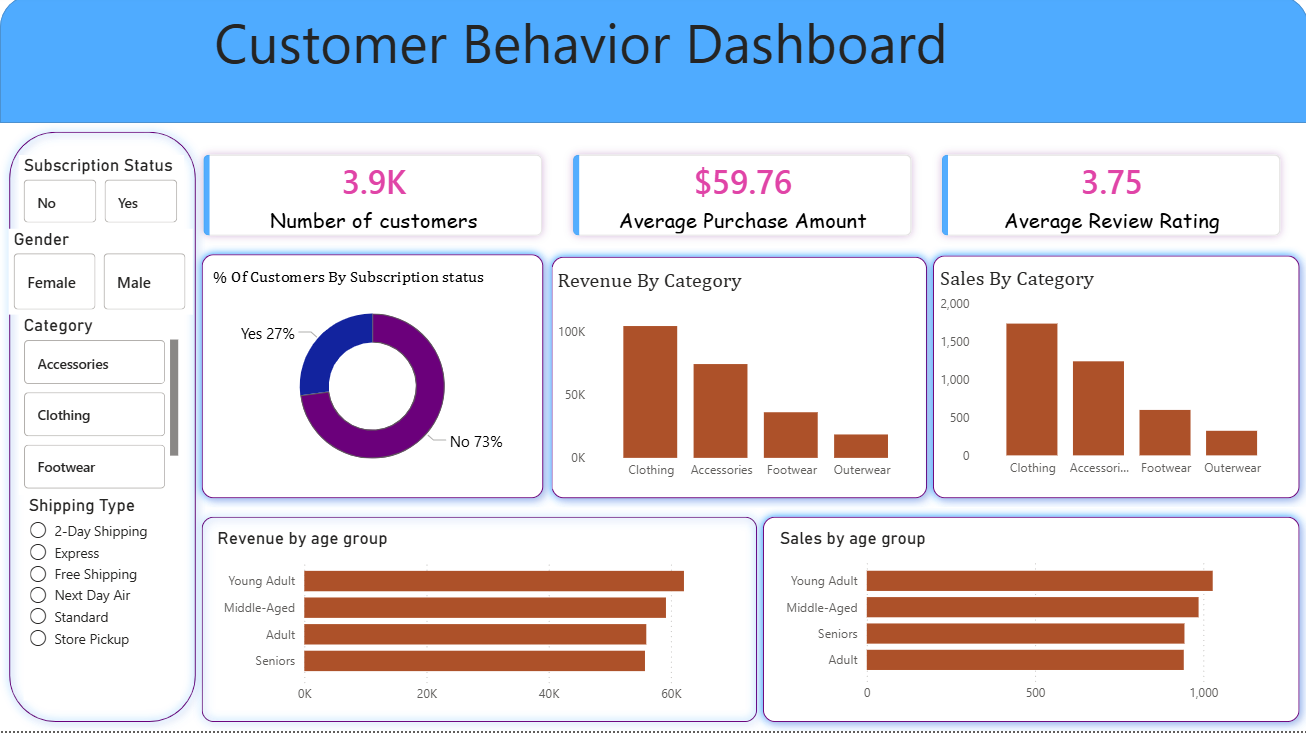

What the dashboard file says about the page in this screenshot:
{"tool":"powerbi","page":{"name":"Page 1","canvas":[1280,720],"ordinal":0},"visuals":[{"type":"cardVisual","fields":{"Data":["public customer.Number of customers","public customer.Average Purchase Amount","public customer.Average Review Rating"]},"box":[171.2,128.4,1109.1,135.7],"z":0},{"type":"shape","box":[0,0,1280.3,125.3],"z":1000},{"type":"textbox","box":[0,3.7,1280.3,124.7],"z":2000},{"type":"shape","box":[530.7,247,385.2,254.3],"z":3000},{"type":"clusteredColumnChart","title":"Revenue By Category","fields":{"Y":["Sum(public customer.purchase_amount)"],"Category":["public customer.category"]},"box":[540.5,266.6,363.2,216.4],"z":4000},{"type":"shape","box":[188.3,244.6,352.2,256.8],"z":5000},{"type":"shape","box":[903.7,245.8,376.6,255.6],"z":6000},{"type":"donutChart","title":"% Of Customers By Subscription status","fields":{"Category":["public customer.subscription_status"],"Y":["CountNonNull(public customer.customer_id)"]},"box":[203,265.4,322.8,216.4],"z":7000},{"type":"clusteredColumnChart","title":"Sales By Category","fields":{"Y":["CountNonNull(public customer.customer_id)"],"Category":["public customer.category"]},"box":[914.7,264.1,348.5,216.4],"z":8000},{"type":"shape","box":[0,124.7,200.5,595.5],"z":9000},{"type":"advancedSlicerVisual","fields":{"Values":["public customer.subscription_status"]},"box":[18.3,156.5,161.4,72.1],"z":10000},{"type":"advancedSlicerVisual","fields":{"Values":["public customer.gender"]},"box":[8.6,228.7,179.8,84.4],"z":11000},{"type":"advancedSlicerVisual","fields":{"Values":["public customer.category"]},"box":[18.3,313,161.4,176.1],"z":12000},{"type":"listSlicer","fields":{"Values":["public customer.shipping_type"]},"box":[23.2,489.1,152.9,200.5],"z":13000},{"type":"clusteredBarChart","title":"Revenue by age group","fields":{"Y":["Sum(public customer.purchase_amount)"],"Category":["public customer.age_group"]},"box":[207.9,520.9,523.4,181],"z":14000},{"type":"shape","box":[188.3,501.4,561.3,218.9],"z":15000},{"type":"shape","box":[737.4,501.4,542.9,218.9],"z":16000},{"type":"clusteredBarChart","title":"Sales by age group","fields":{"Y":["CountNonNull(public customer.customer_id)"],"Category":["public customer.age_group"]},"box":[758.2,520.9,505,179.8],"z":17000}]}

Visuals, with their boxes in screenshot pixels (x1, y1, x2, y2), scaled from the page's 1280x720 canvas onto the 1306x733 screenshot:
cardVisual - public customer.Number of customers x public customer.Average Purchase Amount: locate(175, 131, 1305, 269)
shape: locate(0, 0, 1305, 128)
textbox: locate(0, 4, 1305, 131)
shape: locate(541, 251, 935, 510)
"Revenue By Category" clusteredColumnChart: locate(551, 271, 922, 492)
shape: locate(192, 249, 551, 510)
shape: locate(922, 250, 1305, 510)
"% Of Customers By Subscription status" donutChart: locate(207, 270, 536, 490)
"Sales By Category" clusteredColumnChart: locate(933, 269, 1289, 489)
shape: locate(0, 127, 205, 732)
advancedSlicerVisual - public customer.subscription_status: locate(19, 159, 183, 233)
advancedSlicerVisual - public customer.gender: locate(9, 233, 192, 319)
advancedSlicerVisual - public customer.category: locate(19, 319, 183, 498)
listSlicer - public customer.shipping_type: locate(24, 498, 180, 702)
"Revenue by age group" clusteredBarChart: locate(212, 530, 746, 715)
shape: locate(192, 510, 765, 732)
shape: locate(752, 510, 1305, 732)
"Sales by age group" clusteredBarChart: locate(774, 530, 1289, 713)
